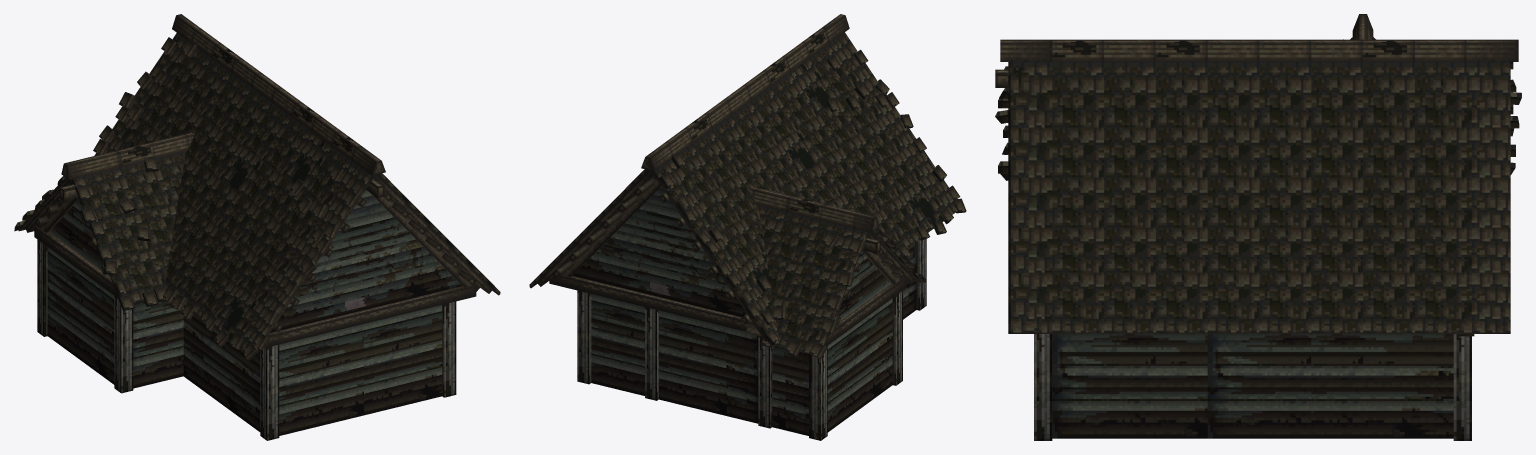
Rendered from EnvBdgMD_WoodHouse_A_Outdoor_House_Home_Broken.FBX.
3 views of the same model, side by side, from view 1: azimuth 30°, elevation 25°; view 2: azimuth 150°, elevation 25°; view 3: azimuth 270°, elevation 25° (orthographic). The views are drawn at different scales.
Visible parts, largest first — view 1: EnvBdgMD_WoodHouse_A_Outdoor_House_Home_Broken; view 2: EnvBdgMD_WoodHouse_A_Outdoor_House_Home_Broken; view 3: EnvBdgMD_WoodHouse_A_Outdoor_House_Home_Broken.
Part boxes in pixels (bbox=[...]): EnvBdgMD_WoodHouse_A_Outdoor_House_Home_Broken: bbox=[14, 14, 500, 440]; EnvBdgMD_WoodHouse_A_Outdoor_House_Home_Broken: bbox=[529, 14, 966, 440]; EnvBdgMD_WoodHouse_A_Outdoor_House_Home_Broken: bbox=[995, 14, 1521, 440].
Size of the model in its own units: 872 by 730 by 1017.
Materials: 1 (1 with a texture image).
